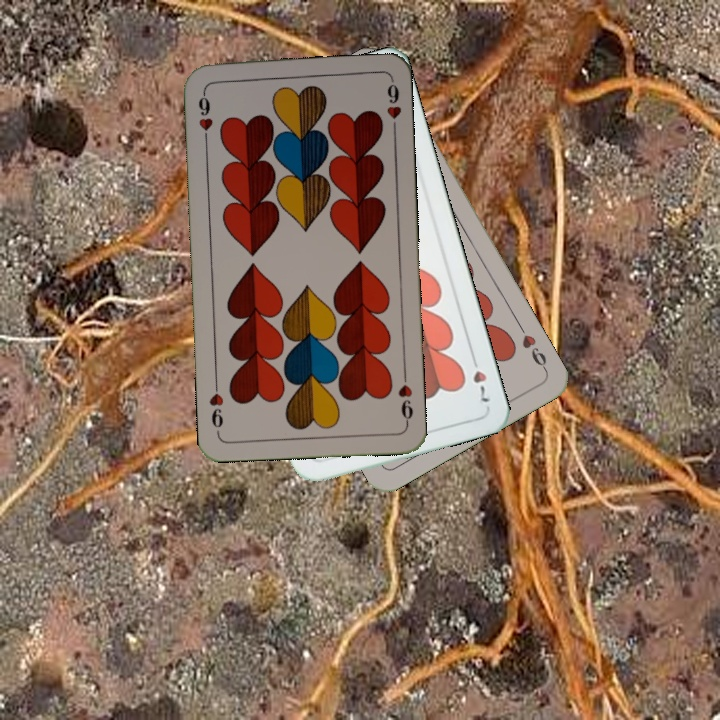H7: (467, 350, 492, 405)
H9: (514, 320, 550, 374), (194, 86, 216, 146), (394, 368, 416, 427)
